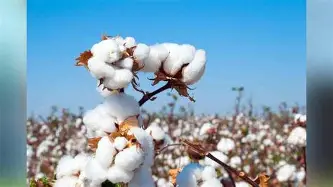crops: (25, 85, 306, 185)
